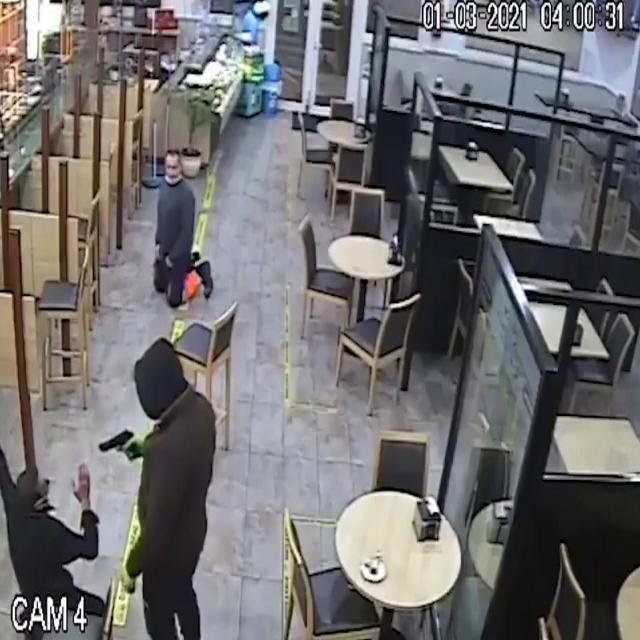weapon: (94, 415, 142, 471)
